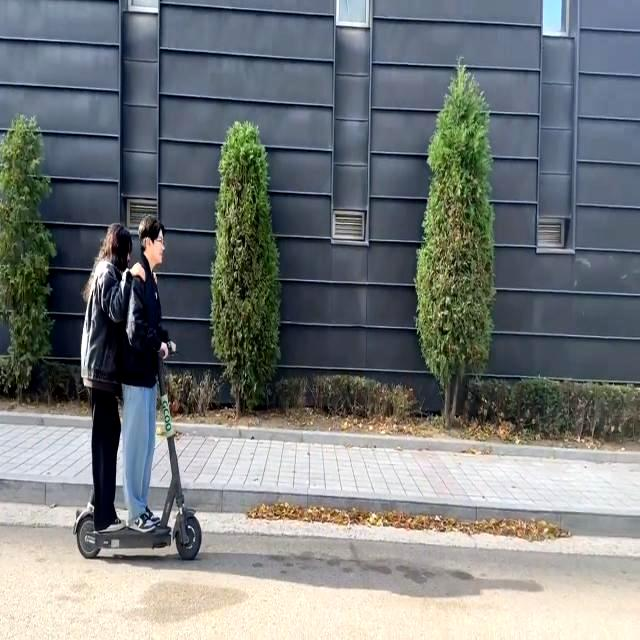bare_head: (87, 221, 131, 268), (132, 215, 169, 265)
human: (122, 215, 168, 534), (83, 223, 129, 528)
kickboard: (57, 501, 219, 572)
